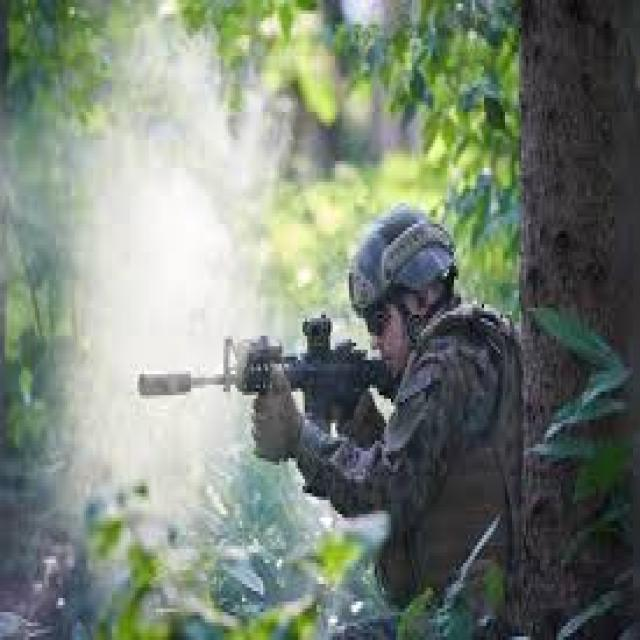soldier: (139, 203, 516, 601)
